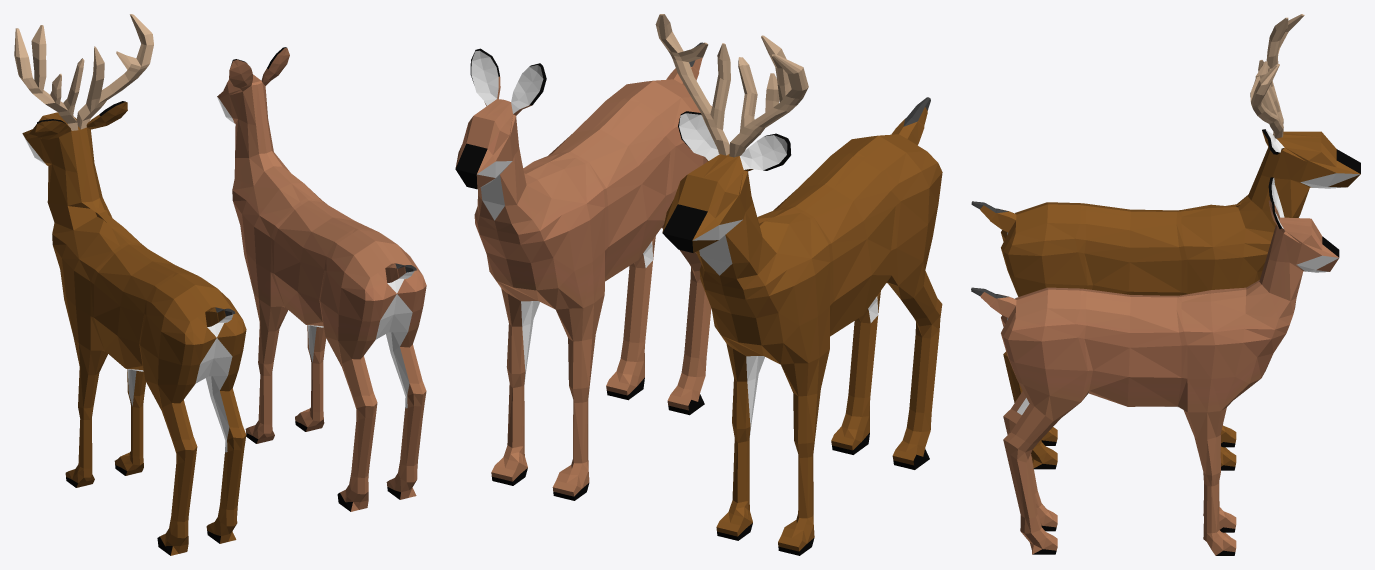
The model's file is Deer.fbx.
3 renders of one model, left to right at view 1: azimuth 30°, elevation 25°; view 2: azimuth 150°, elevation 25°; view 3: azimuth 270°, elevation 25°, orthographic. The views are drawn at different scales.
Parts seen in each view (by area): view 1: Deer, Doe; view 2: Deer, Doe; view 3: Doe, Deer.
Boxes of the visible parts, left/top/right/bottom form: Deer: left=14, top=14, right=246, bottom=555; Doe: left=217, top=47, right=426, bottom=511; Deer: left=655, top=14, right=942, bottom=555; Doe: left=455, top=42, right=711, bottom=500; Doe: left=971, top=177, right=1339, bottom=555; Deer: left=971, top=14, right=1360, bottom=470.
Bounding box in the file's own units: 145 × 218 × 182.
